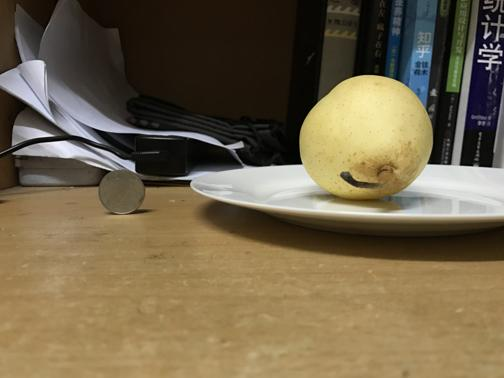coin: (99, 168, 146, 215)
pear: (297, 72, 432, 201)
